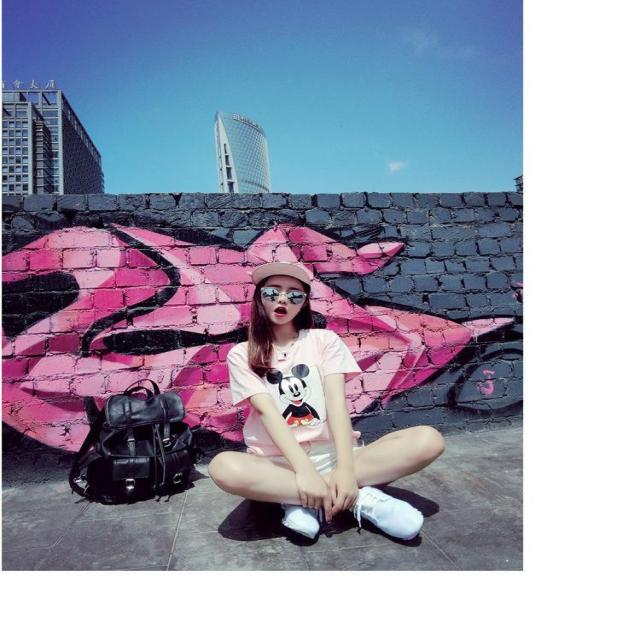short-sleeve-top: (228, 332, 376, 466)
